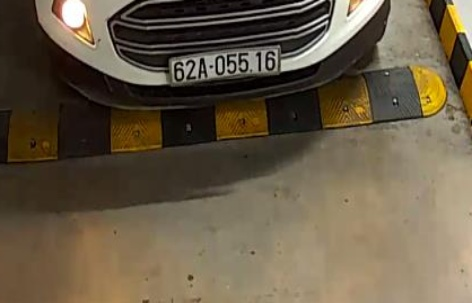plate: (162, 45, 284, 87)
